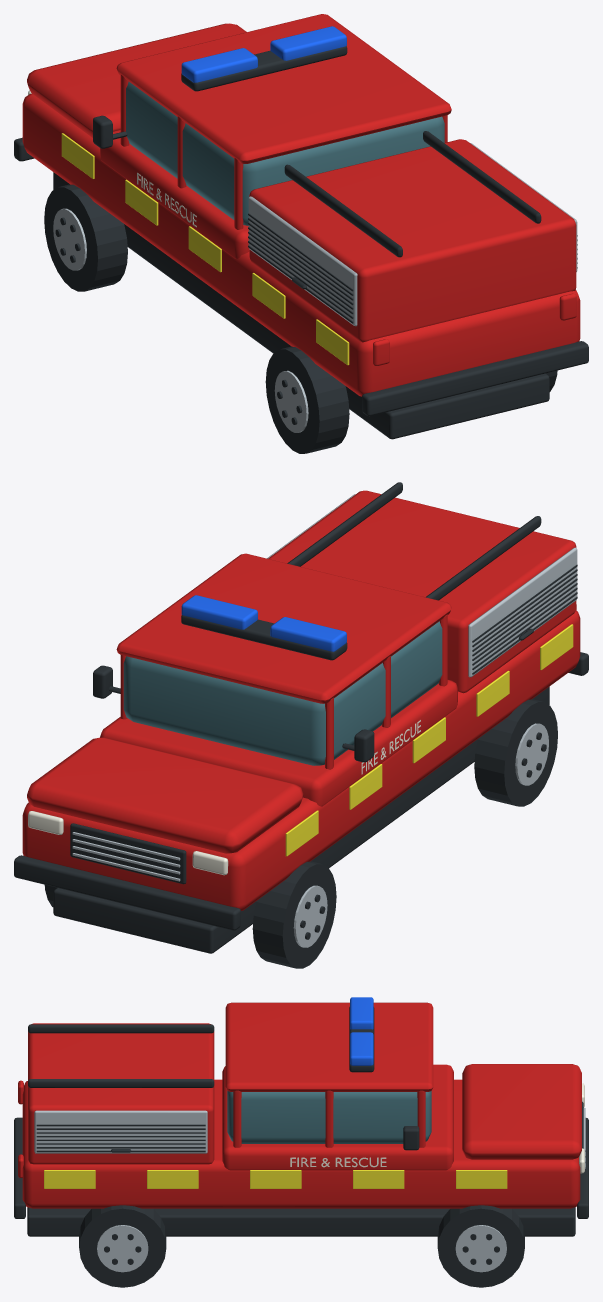
Rendered from pickup.glb.
3 views of the same model, one above another, from view 1: azimuth 30°, elevation 25°; view 2: azimuth 150°, elevation 25°; view 3: azimuth 270°, elevation 25° (orthographic). The views are drawn at different scales.
Visible parts, largest first — view 1: Equipment canopy, Lower body, Cab roof, Glazed crew cabin, Chassis, Raised bonnet, Impact bumper, Wheel_Front_L, Wheel_Rear_L, Cab sill, Roller shutter, Lightbar base (+13 smaller); view 2: Cab roof, Equipment canopy, Lower body, Glazed crew cabin, Raised bonnet, Cab sill, Chassis, Impact bumper.001, Wheel_Front_L, Wheel_Rear_L, Roller shutter, Radiator grille (+14 smaller); view 3: Lower body, Cab roof, Equipment canopy, Raised bonnet, Chassis, Glazed crew cabin, Cab sill, Roller shutter.001, Wheel_Front_R, Wheel_Rear_R, Roof rack, Hub.002 (+19 smaller).
Part boxes in pixels (x1,y1,x2,y2): Equipment canopy: (249, 139, 576, 342); Lower body: (22, 93, 580, 396); Cab roof: (116, 14, 451, 163); Glazed crew cabin: (126, 81, 444, 225); Chassis: (53, 172, 549, 439); Raised bonnet: (27, 23, 246, 137); Impact bumper: (362, 341, 588, 416); Wheel_Front_L: (44, 184, 127, 291); Wheel_Rear_L: (265, 346, 349, 453); Cab sill: (100, 129, 249, 258); Roller shutter: (248, 196, 357, 326); Lightbar base: (181, 46, 347, 91); Cab roof: (116, 553, 451, 703); Equipment canopy: (268, 490, 576, 693); Lower body: (22, 610, 580, 910); Glazed crew cabin: (123, 621, 442, 765); Raised bonnet: (27, 737, 303, 853); Cab sill: (100, 680, 457, 806); Chassis: (53, 686, 549, 953); Impact bumper.001: (14, 855, 240, 930); Wheel_Front_L: (252, 861, 336, 968); Wheel_Rear_L: (474, 699, 557, 806); Roller shutter: (468, 547, 577, 677); Radiator grille: (70, 823, 186, 884); Lower body: (22, 1079, 580, 1208); Cab roof: (225, 1002, 433, 1091); Equipment canopy: (28, 1023, 214, 1164); Raised bonnet: (462, 1064, 581, 1159); Chassis: (27, 1207, 575, 1236); Glazed crew cabin: (227, 1091, 431, 1143); Cab sill: (222, 1064, 453, 1170); Roller shutter.001: (34, 1110, 207, 1153); Wheel_Front_R: (437, 1205, 524, 1287); Wheel_Rear_R: (79, 1205, 166, 1287); Roof rack: (28, 1024, 214, 1033); Hub.002: (455, 1225, 506, 1272).
Size of the model in its own units: 2.38 by 2.2 by 5.34.
